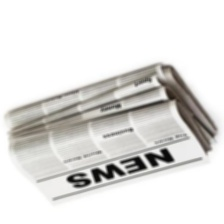news_paper: (0, 59, 221, 210)
